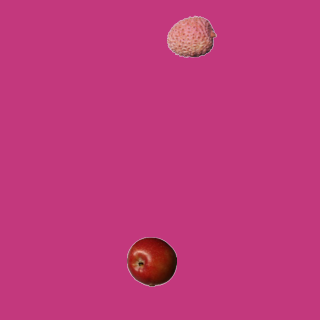Apple Braeburn: (126, 236, 176, 286)
Lychee: (166, 11, 216, 61)
